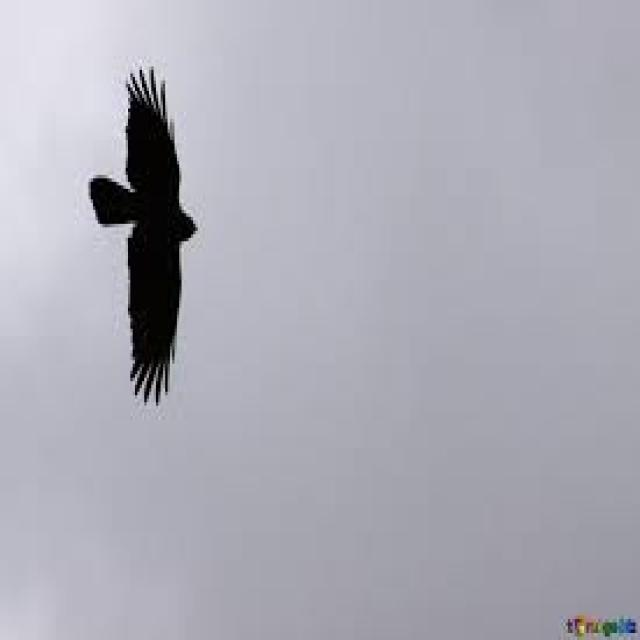bird: (80, 65, 215, 428)
